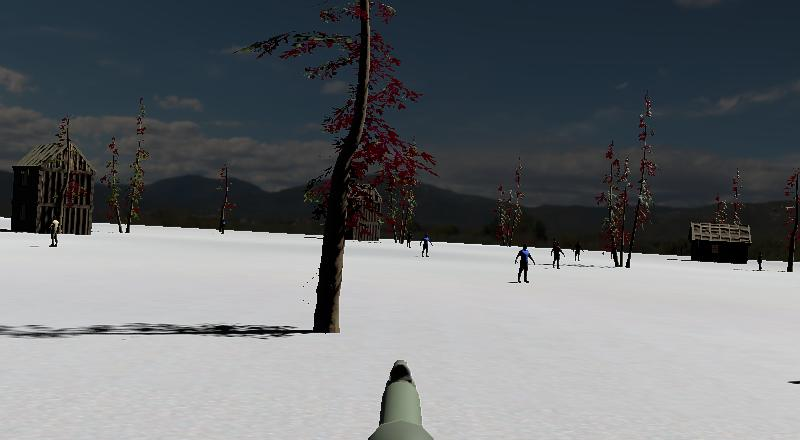House: (1, 125, 106, 255), (308, 175, 392, 249), (682, 210, 760, 277)
Human: (509, 238, 542, 290), (42, 210, 67, 254), (544, 234, 569, 275), (416, 230, 438, 262), (570, 238, 587, 266)
